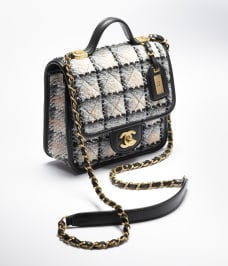channel: (44, 38, 181, 186), (68, 66, 91, 177), (115, 132, 143, 155)
